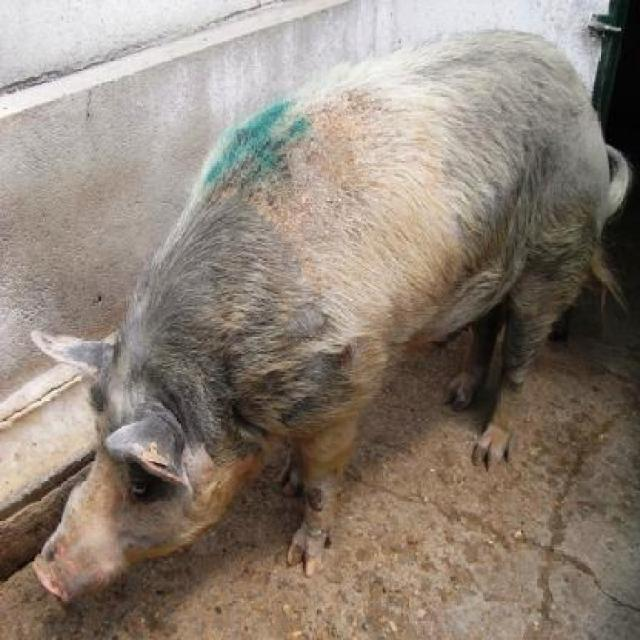Boar: (34, 28, 635, 608)
